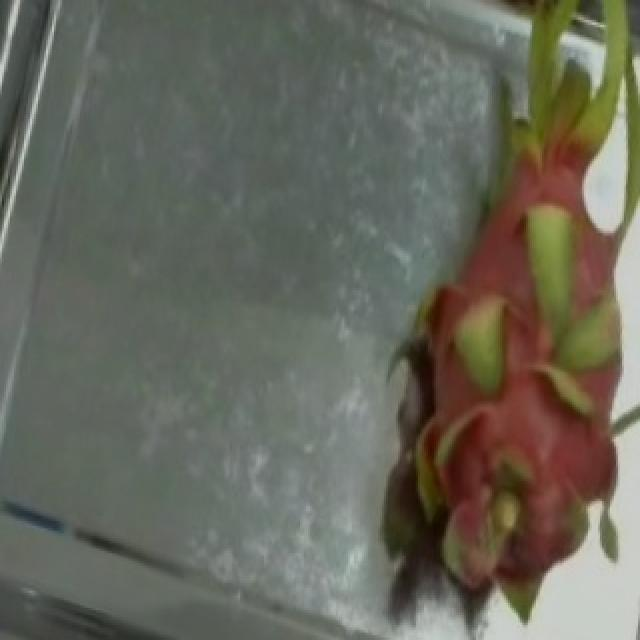fruit: (310, 218, 640, 638), (340, 5, 640, 424)
